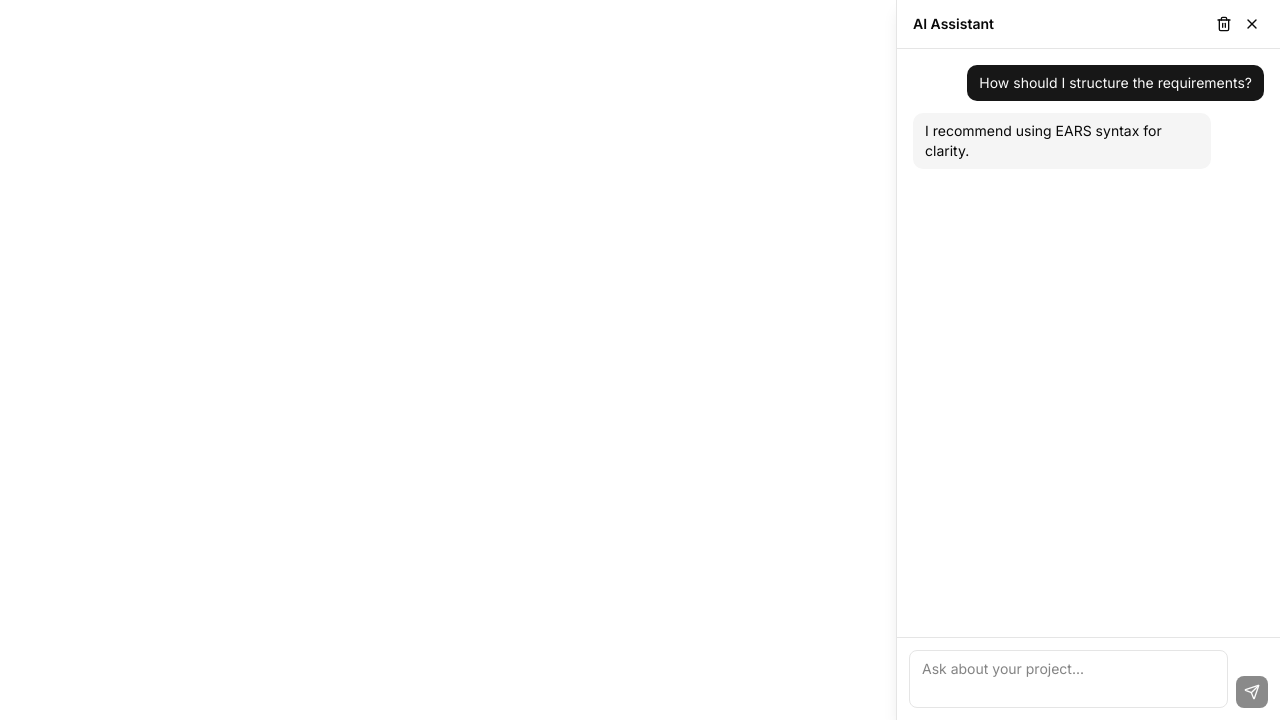
Test: ChatPanel › clicking clear button shows confirmation dialog
Click the button named "clear" at coordinates (1224, 24), box [1212,12,1236,36]
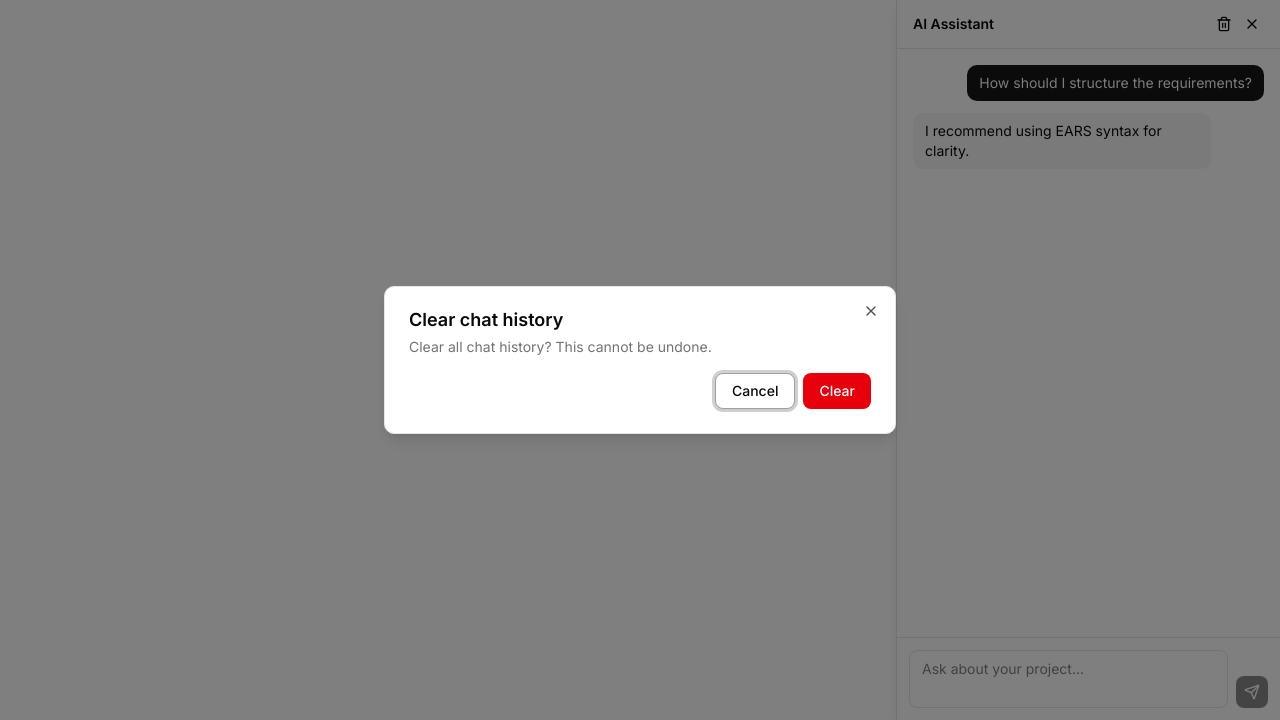
Now the text "Clear all chat history? This cannot be undone." is shown, box [409,338,712,355]
